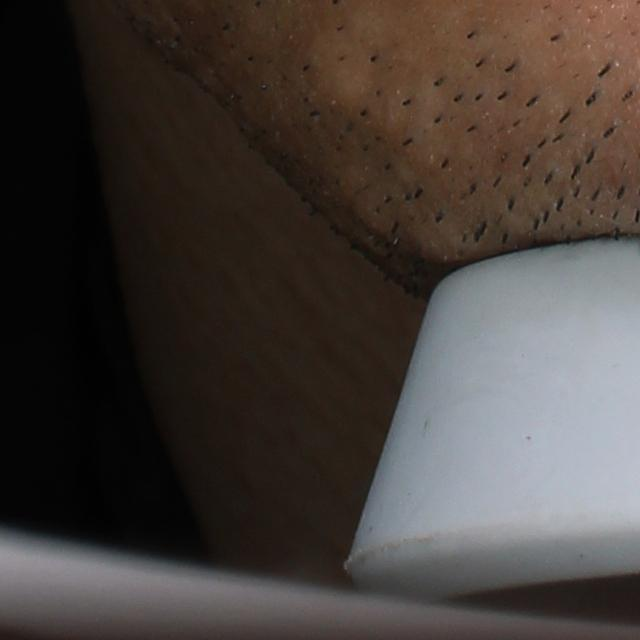hypertrophic_scar: (307, 9, 393, 122)
